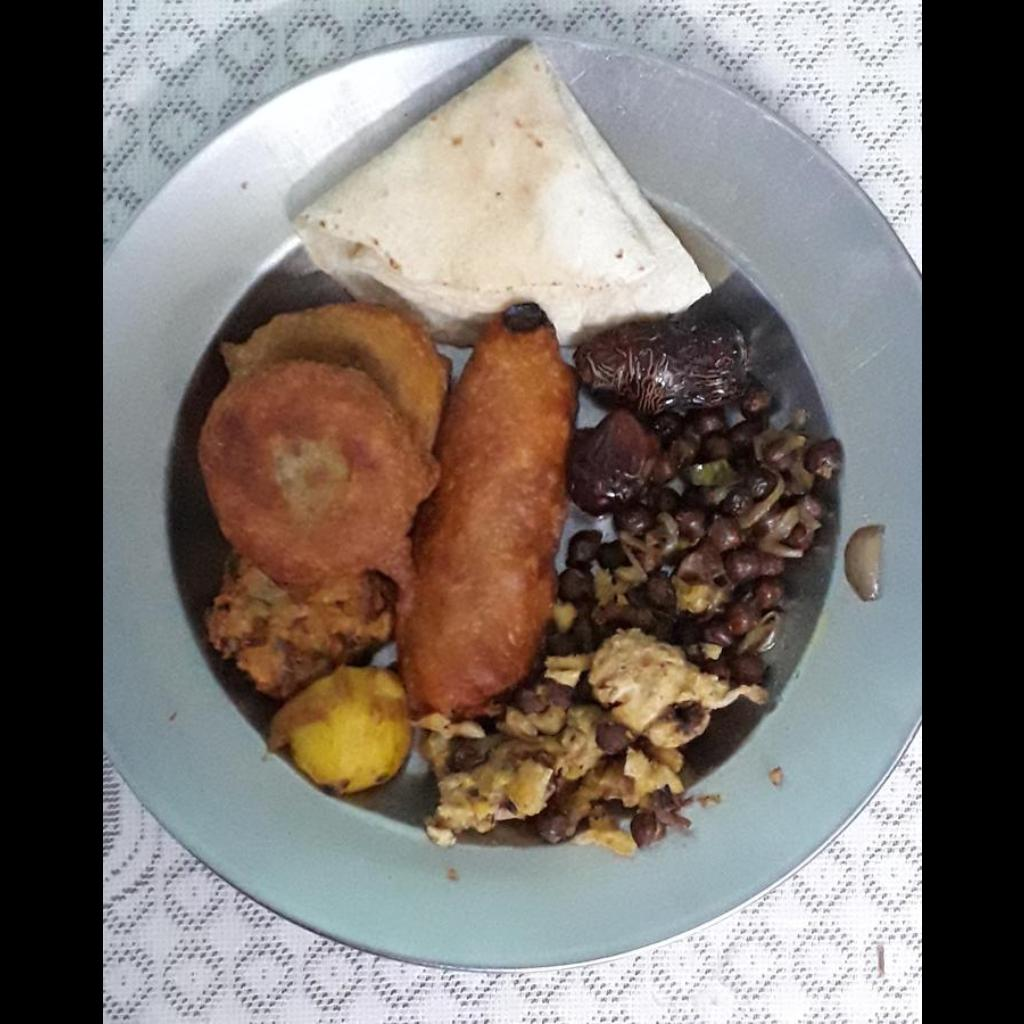beguni: (412, 315, 576, 711)
chicken: (418, 628, 764, 853)
chola: (574, 410, 839, 667)
chop-alu: (195, 309, 432, 587)
dates: (576, 305, 741, 506)
egg-boiled: (268, 667, 411, 794)
piyaju: (206, 559, 391, 699)
ruti: (297, 40, 720, 343)
